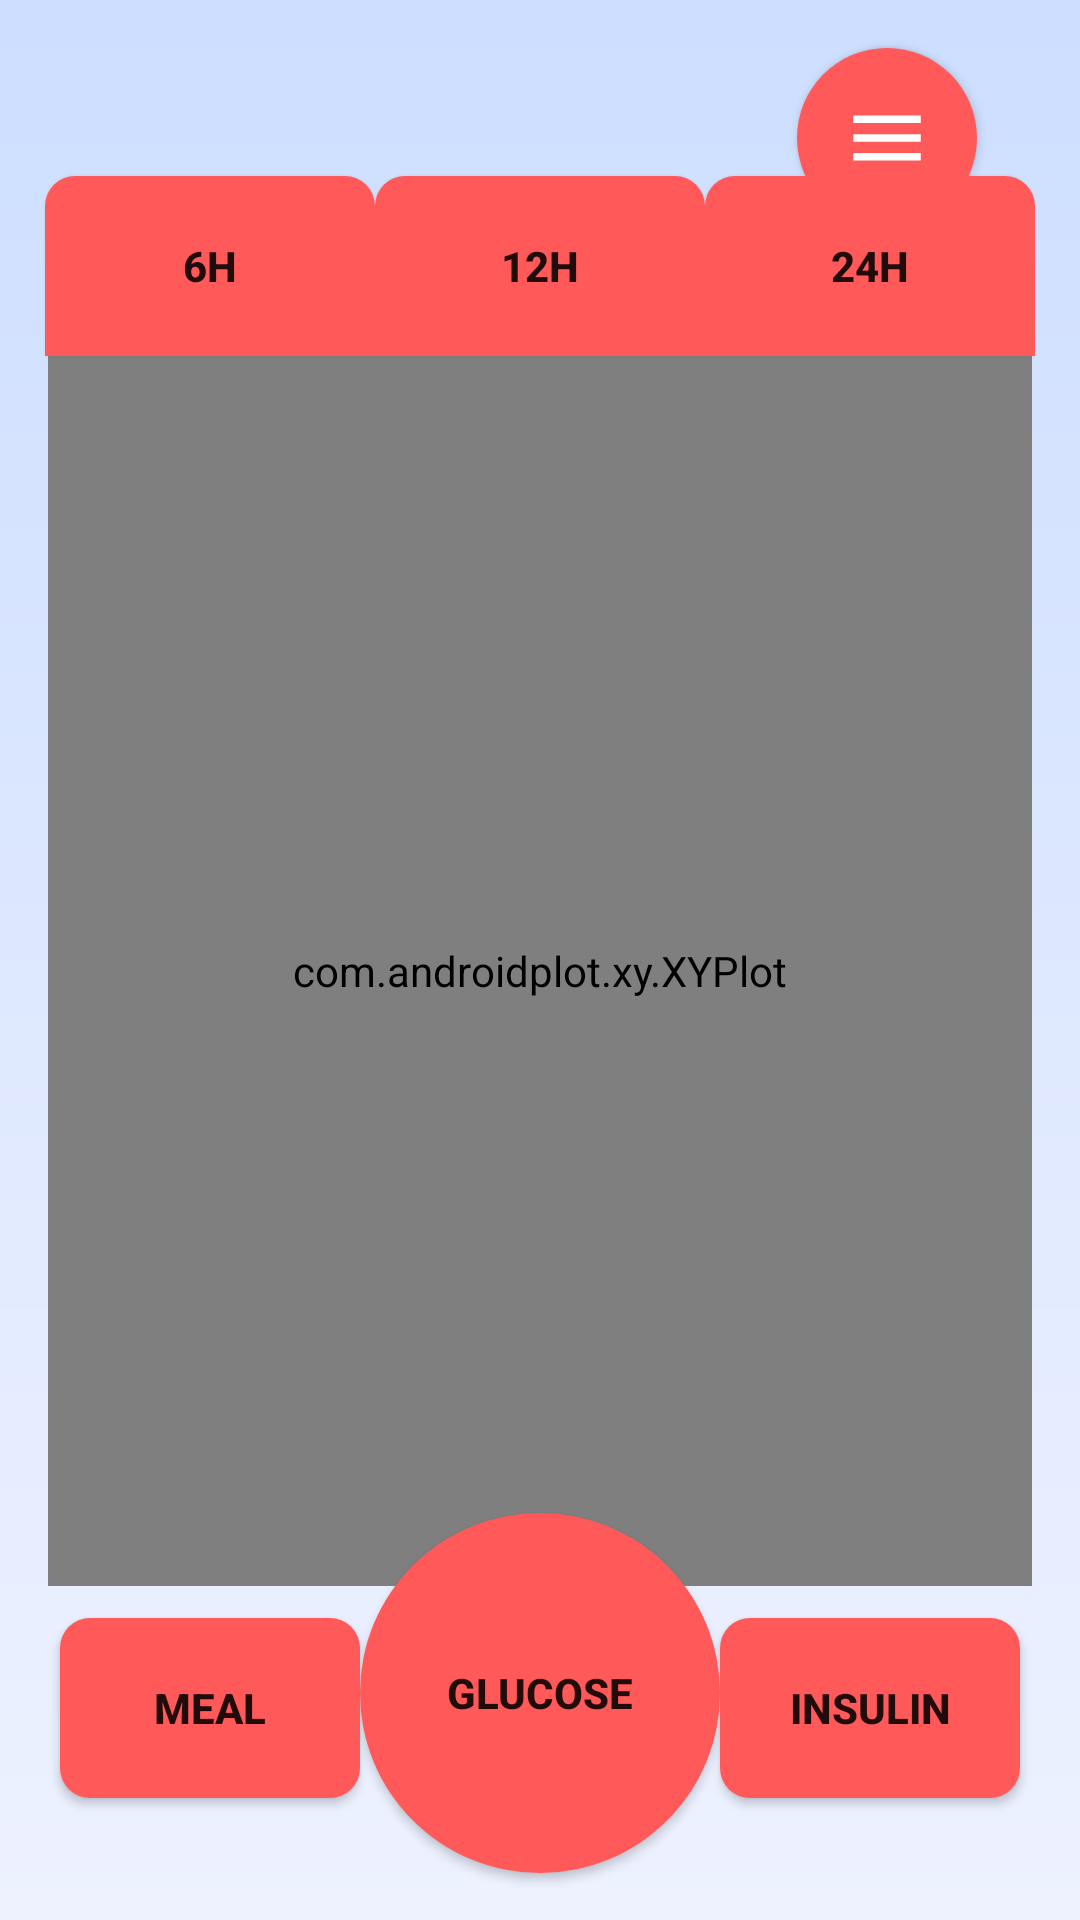

Screen size 1080×1920. Icon name, then its center in pixels as point (x, y):
menu: point (887, 138)
